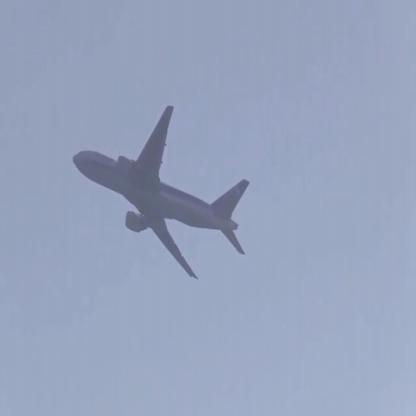CIV_Plane: (71, 105, 255, 282)
